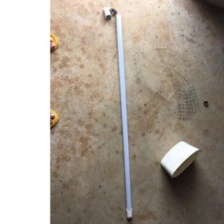light_bulb: (114, 10, 136, 222)
